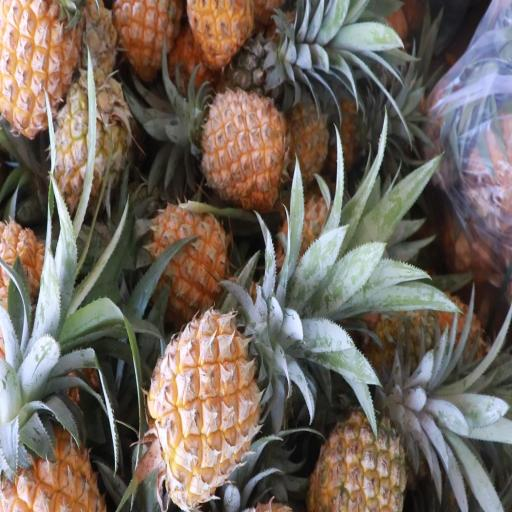------------------------------: (51, 80, 128, 217), (311, 402, 406, 512)
Pineapple - v8 v1: (146, 307, 260, 486), (3, 397, 103, 512), (200, 94, 286, 206), (0, 0, 69, 134), (148, 204, 226, 308), (113, 0, 183, 73), (190, 0, 256, 63)
